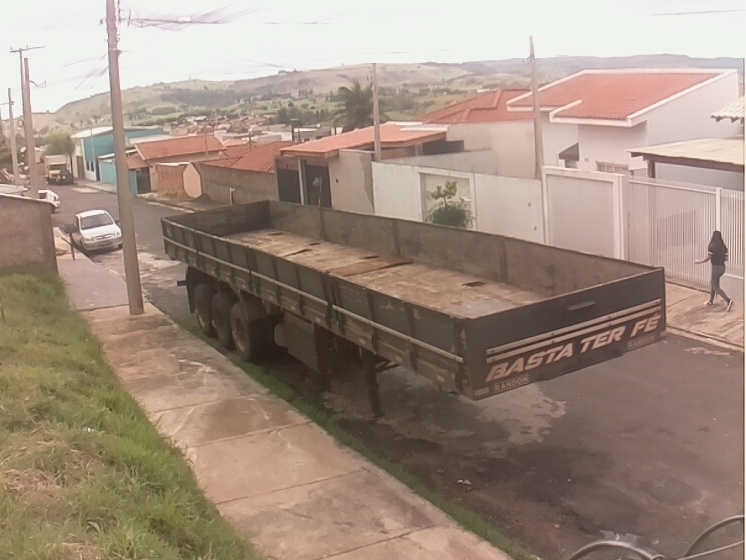person: (694, 230, 735, 316)
